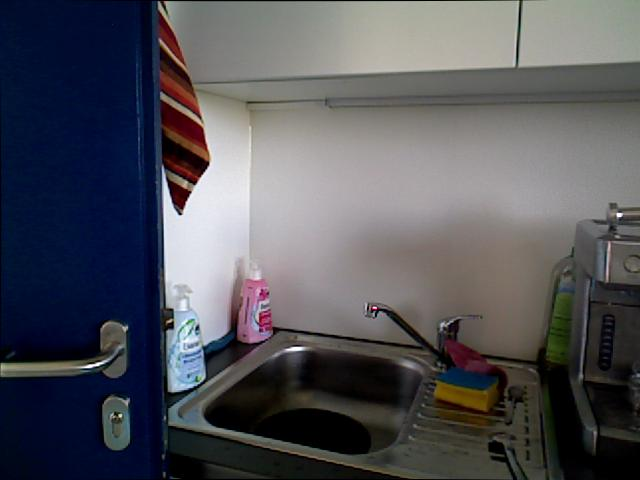bench: (539, 231, 581, 380), (156, 283, 207, 386), (230, 259, 274, 346)
couch: (180, 333, 435, 461)
toilet: (478, 427, 534, 480), (499, 374, 530, 430)
